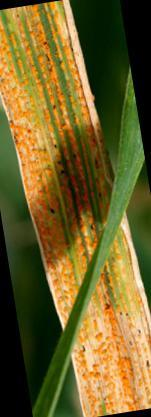Wheat: (3, 8, 90, 174), (35, 185, 102, 311), (83, 323, 151, 413)
